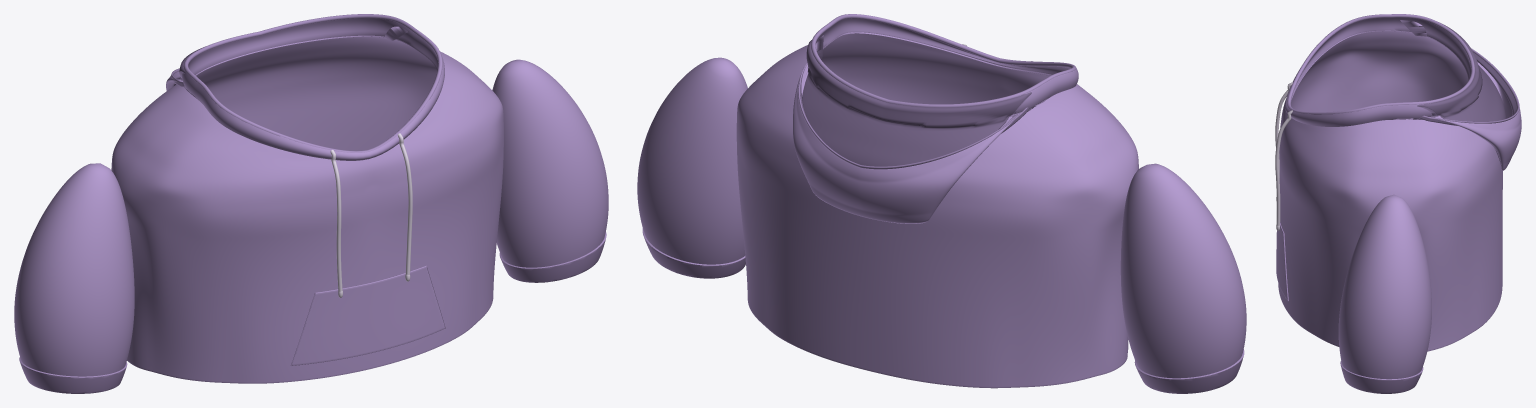
File: Masculine-sweatshirt-top.glb
The picture shows the model from 3 angles, left to right: view 1: azimuth 30°, elevation 25°; view 2: azimuth 150°, elevation 25°; view 3: azimuth 270°, elevation 25°; orthographic projection. The views are drawn at different scales.
Parts seen in each view (by area): view 1: Clothing / tailored203, Sleeve / full fabric wrap201 -1, Sleeve / full fabric wrap201 1, Hoodie / seated pouch202, Hoodie / attached opening204, Hoodie / rolled opening204 export, Sleeve / shaped cuff202 -1, Sleeve / shaped cuff202 1, Hoodie / front seated cord205 1 export, Hoodie / front seated cord205 -1 export, Hoodie / shallow resting pouch205; view 2: Clothing / tailored203, Hoodie / shallow resting pouch205, Sleeve / full fabric wrap201 -1, Sleeve / full fabric wrap201 1, Hoodie / attached opening204, Hoodie / rolled opening204 export, Sleeve / shaped cuff202 -1, Sleeve / shaped cuff202 1; view 3: Clothing / tailored203, Sleeve / full fabric wrap201 1, Hoodie / shallow resting pouch205, Hoodie / attached opening204, Hoodie / rolled opening204 export, Sleeve / shaped cuff202 1, Hoodie / seated pouch202, Hoodie / front seated cord205 1 export, Hoodie / front seated cord205 -1 export.
Part boxes in pixels (x1,y1,x2,y2): Clothing / tailored203: [111, 35, 503, 383]; Sleeve / full fabric wrap201 -1: [14, 163, 134, 376]; Sleeve / full fabric wrap201 1: [492, 59, 608, 267]; Hoodie / seated pouch202: [292, 266, 445, 365]; Hoodie / attached opening204: [182, 18, 444, 160]; Hoodie / rolled opening204 export: [183, 14, 442, 152]; Sleeve / shaped cuff202 -1: [19, 357, 127, 393]; Sleeve / shaped cuff202 1: [499, 232, 606, 282]; Hoodie / front seated cord205 1 export: [397, 133, 412, 274]; Hoodie / front seated cord205 -1 export: [330, 150, 342, 291]; Hoodie / shallow resting pouch205: [166, 26, 408, 90]; Clothing / tailored203: [736, 32, 1138, 388]; Hoodie / shallow resting pouch205: [793, 35, 1031, 223]; Sleeve / full fabric wrap201 -1: [1120, 163, 1246, 378]; Sleeve / full fabric wrap201 1: [637, 57, 747, 264]; Hoodie / attached opening204: [816, 18, 1078, 116]; Hoodie / rolled opening204 export: [811, 14, 1076, 107]; Sleeve / shaped cuff202 -1: [1134, 349, 1244, 393]; Sleeve / shaped cuff202 1: [642, 228, 745, 278]; Clothing / tailored203: [1278, 30, 1502, 351]; Sleeve / full fabric wrap201 1: [1338, 194, 1431, 379]; Hoodie / shallow resting pouch205: [1400, 20, 1521, 170]; Hoodie / attached opening204: [1285, 17, 1471, 126]; Hoodie / rolled opening204 export: [1287, 14, 1474, 114]; Sleeve / shaped cuff202 1: [1340, 361, 1423, 393]; Hoodie / seated pouch202: [1276, 222, 1288, 300]; Hoodie / front seated cord205 1 export: [1275, 110, 1292, 225]; Hoodie / front seated cord205 -1 export: [1275, 82, 1292, 177].
Size of the model in its own units: 1.09 by 0.4801 by 0.472.
